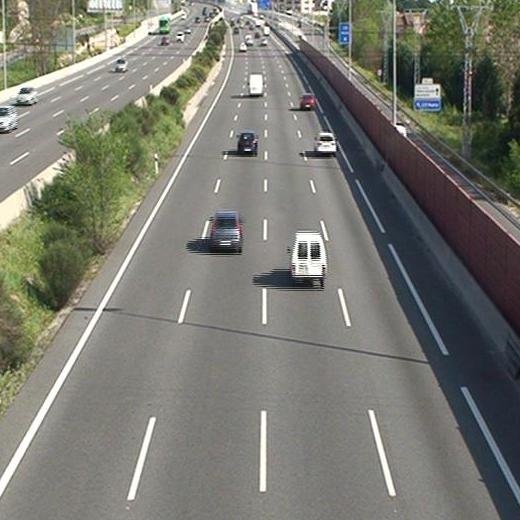car: (210, 213, 242, 250), (237, 132, 258, 155), (316, 132, 337, 153), (300, 94, 316, 109)
van: (290, 232, 326, 282), (249, 73, 263, 96)
